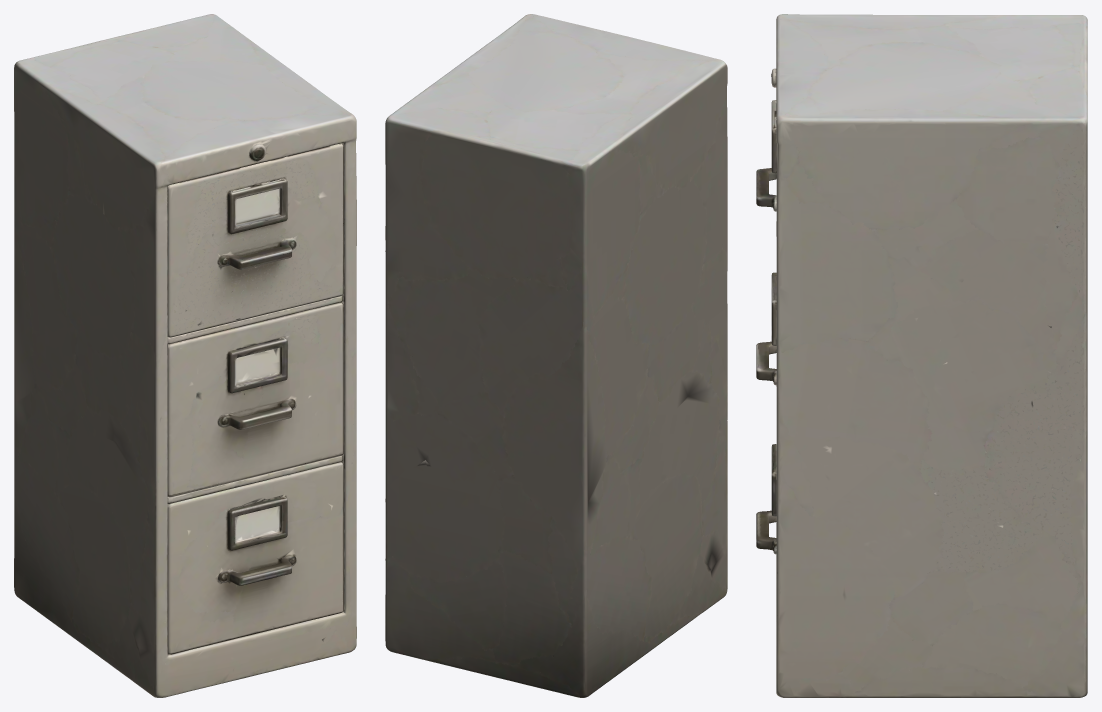
File: filing_cabinet_0194476c_v1.glb
3 views of the same model, side by side, from view 1: azimuth 30°, elevation 25°; view 2: azimuth 150°, elevation 25°; view 3: azimuth 270°, elevation 25° (orthographic). The views are drawn at different scales.
Parts seen in each view (by area): view 1: material; view 2: material; view 3: material.
Boxes of the visible parts, bbox=[...] form: material: bbox=[14, 14, 356, 697]; material: bbox=[385, 14, 727, 697]; material: bbox=[756, 14, 1087, 697].
Bounding box in the file's own units: 0.3998 × 1.02 × 0.5256.
Materials: 1 (1 with a texture image).
